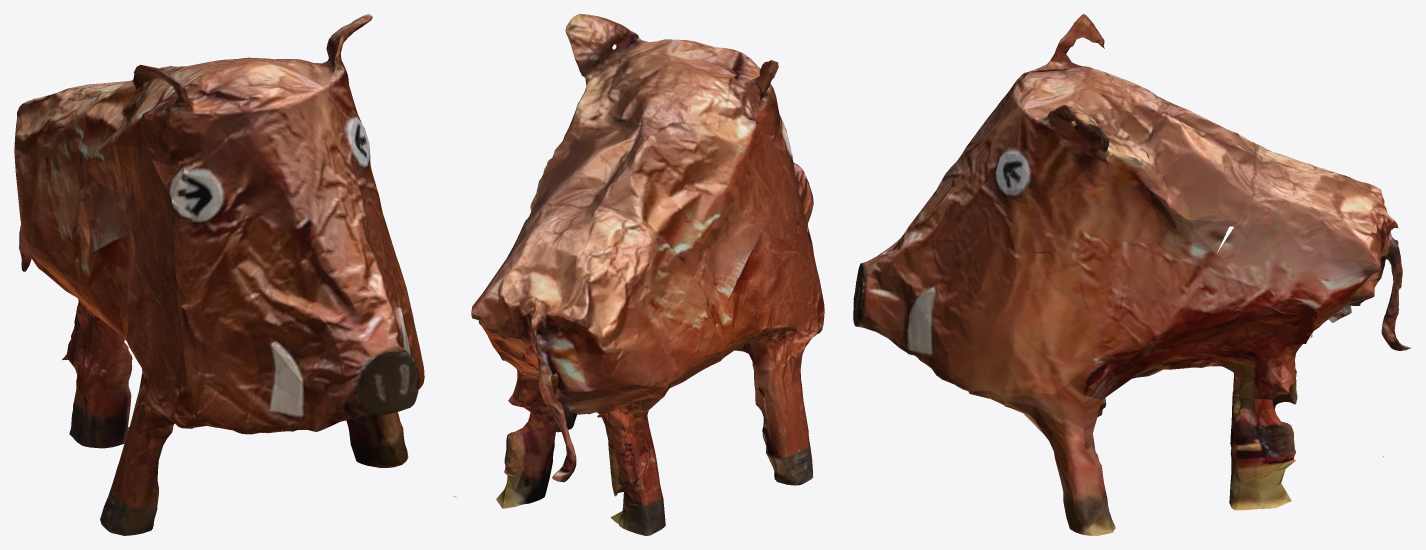
File: inoshi2-opt.glb
3 renders of one model, left to right at view 1: azimuth 30°, elevation 25°; view 2: azimuth 150°, elevation 25°; view 3: azimuth 270°, elevation 25°, orthographic. The views are drawn at different scales.
Parts seen in each view (by area): view 1: mesh; view 2: mesh; view 3: mesh.
Boxes of the visible parts, x1,y1,x2,y2 form: mesh: [14, 14, 424, 535]; mesh: [453, 14, 824, 535]; mesh: [853, 14, 1411, 535].
Size of the model in its own units: 0.2968 by 0.4249 by 0.5309.
Materials: 1 (1 with a texture image).
